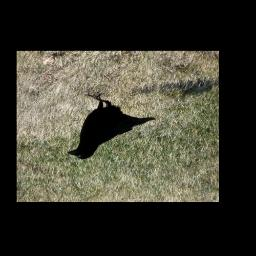Crow: (64, 94, 154, 162)
